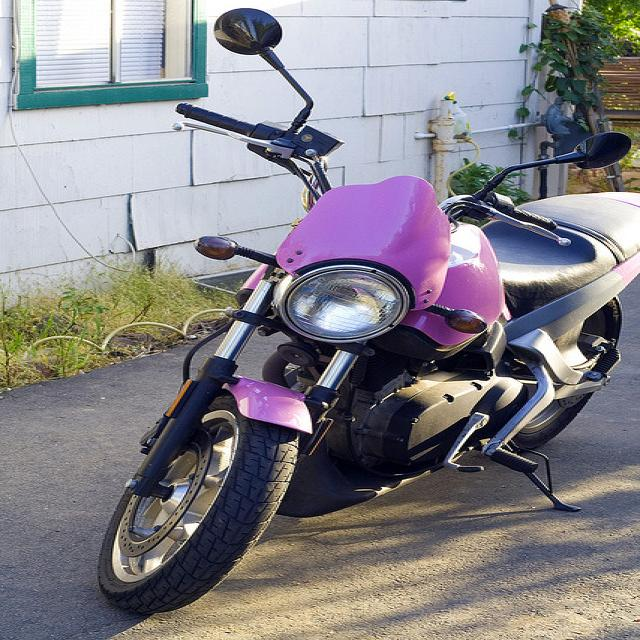motor: (86, 9, 640, 620)
